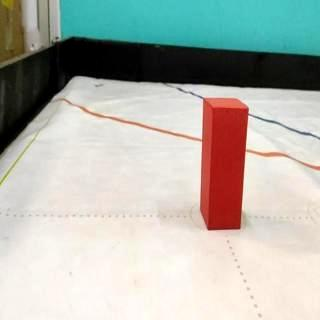redbox: (200, 96, 249, 230)
